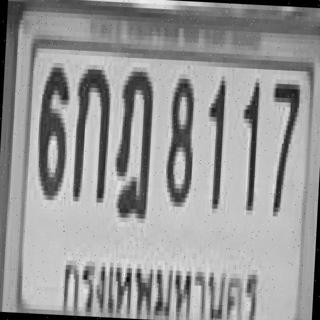A01: (71, 64, 110, 198)
A14: (111, 66, 153, 214)
N01: (203, 74, 226, 206), (238, 78, 260, 206)
N06: (34, 62, 70, 196)
N07: (266, 79, 299, 213)
N08: (163, 74, 195, 203)
P04: (58, 242, 264, 320)
